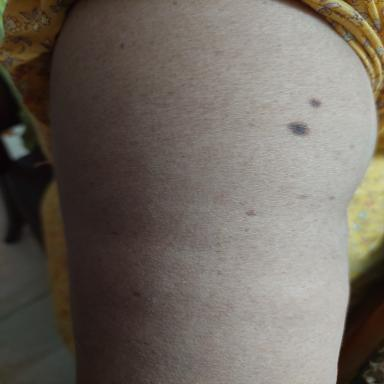normal skin: (51, 0, 376, 384)
